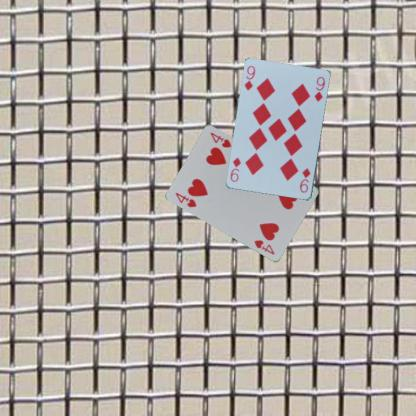4h: (173, 190, 198, 209)
9d: (242, 63, 257, 92), (297, 166, 312, 194)
